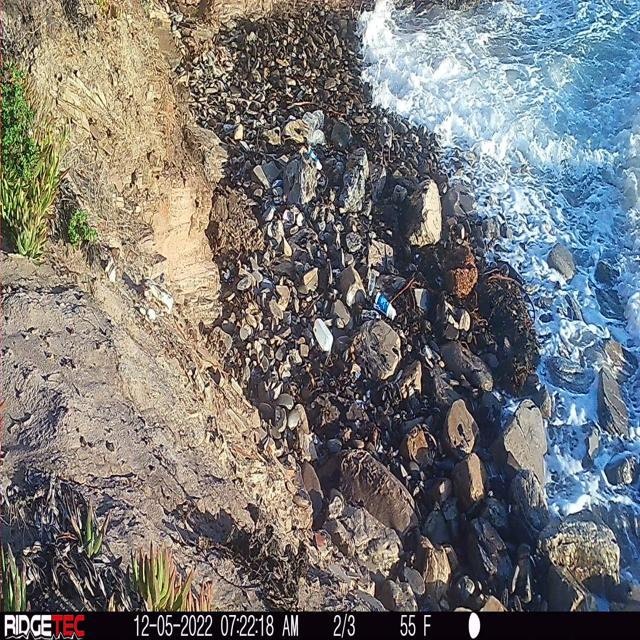bird: (372, 105, 397, 168)
